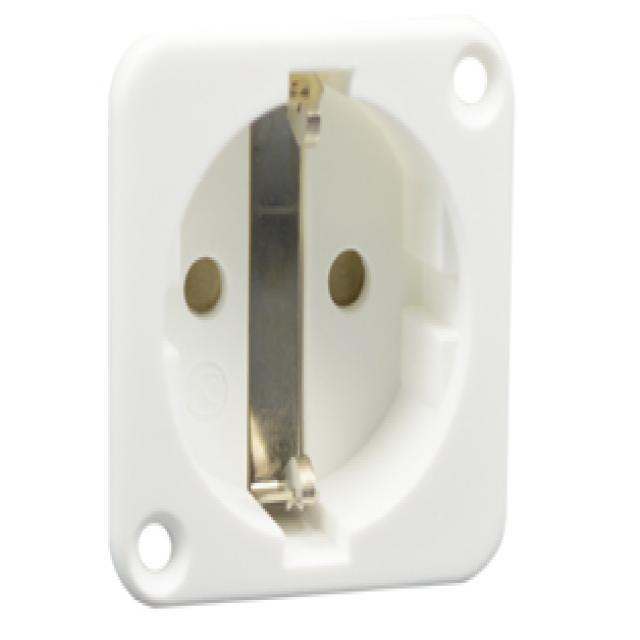typeb: (100, 35, 527, 601)
